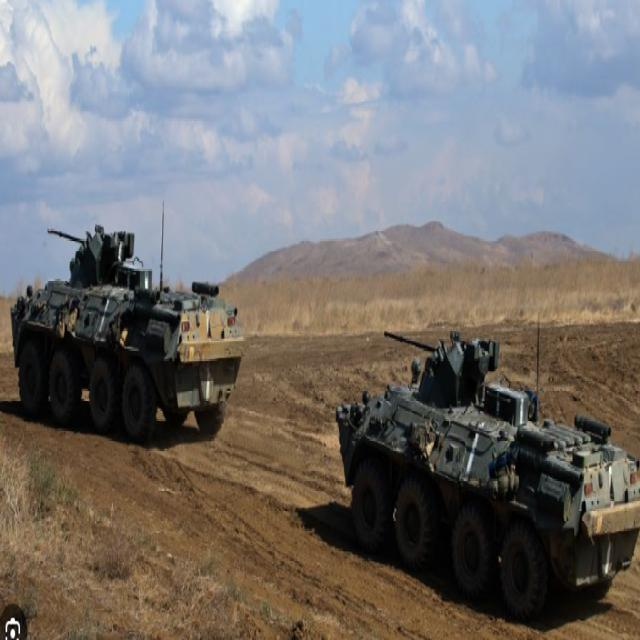APC-IFV: (332, 310, 638, 621), (11, 218, 242, 449)
